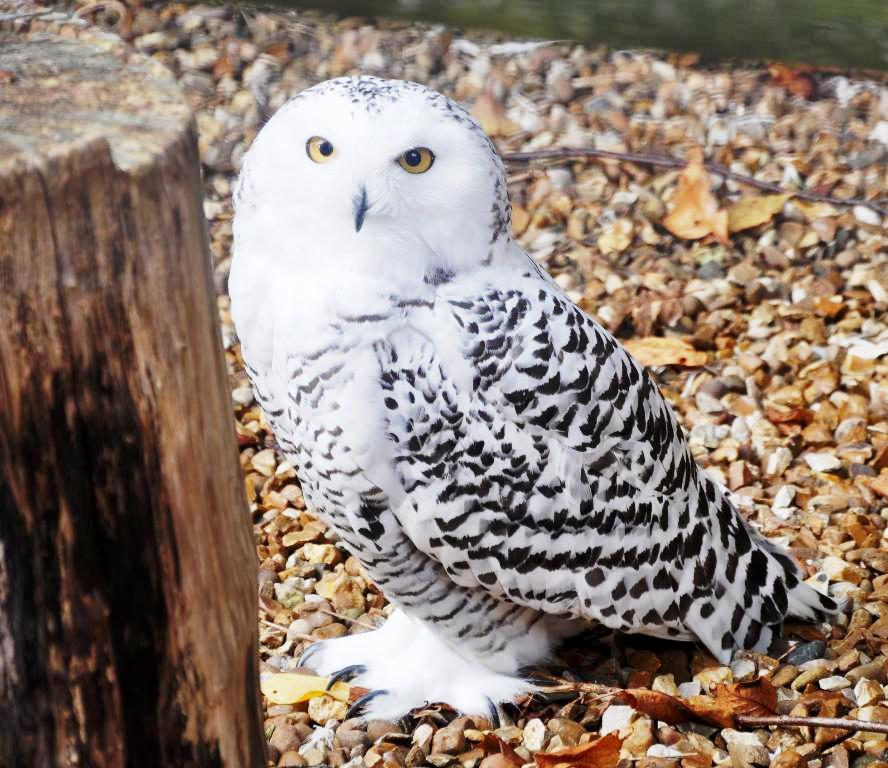Owl: (225, 73, 844, 728)
